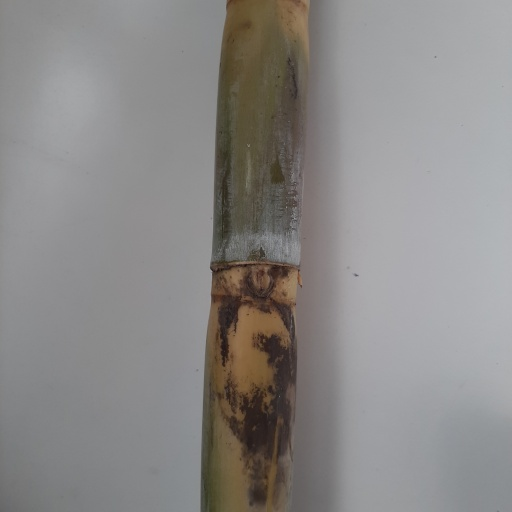Bud: (245, 266, 274, 299)
